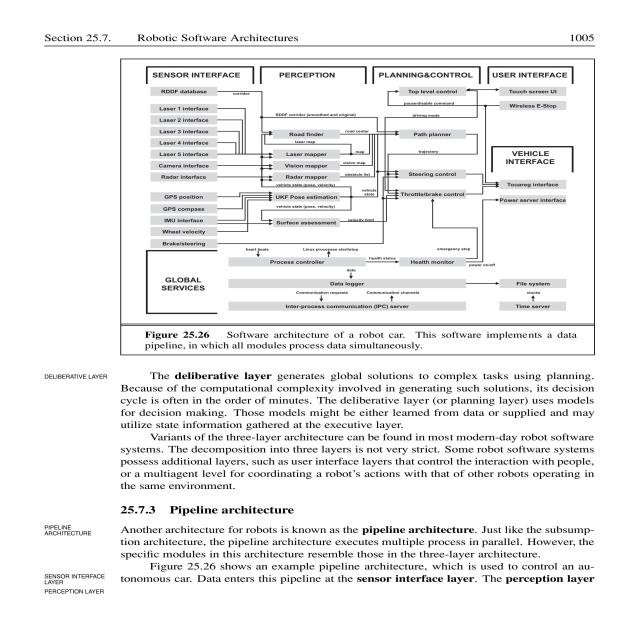diagram: (115, 55, 640, 355)
